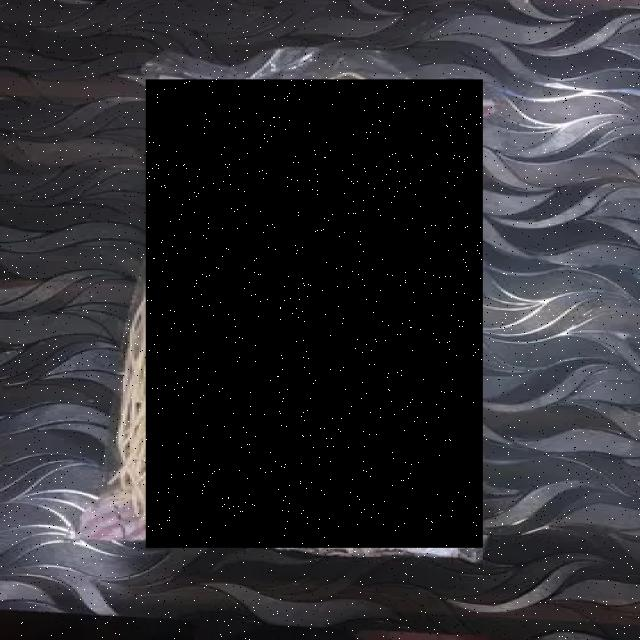Chowmein_Noodles: (148, 80, 485, 548)
